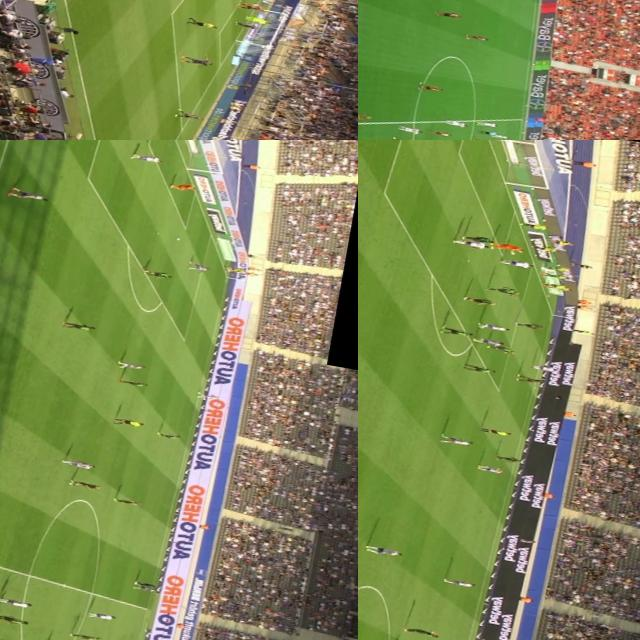ball: (174, 234, 184, 240)
player: (362, 542, 402, 558), (401, 622, 440, 638), (440, 575, 479, 591), (9, 188, 52, 202), (62, 320, 101, 334), (492, 239, 526, 254), (0, 595, 34, 609), (499, 257, 534, 270), (486, 339, 516, 354), (84, 610, 120, 622), (180, 54, 213, 67), (0, 611, 30, 625), (114, 358, 149, 370), (129, 152, 164, 164), (440, 326, 475, 338), (453, 236, 488, 248), (462, 362, 496, 374), (492, 282, 521, 296), (474, 334, 503, 348), (464, 293, 494, 306), (512, 317, 542, 330), (184, 259, 213, 272), (441, 433, 474, 444), (476, 462, 506, 474), (131, 583, 163, 594), (177, 108, 206, 120), (146, 268, 174, 280), (494, 451, 522, 463), (114, 497, 144, 508), (168, 181, 198, 192), (464, 232, 496, 242), (244, 12, 269, 24), (434, 8, 464, 18), (70, 478, 100, 488), (64, 458, 94, 468), (72, 631, 105, 640), (418, 80, 444, 91), (516, 372, 544, 382), (160, 428, 182, 440), (119, 378, 148, 387), (239, 1, 265, 11), (464, 32, 490, 42), (233, 20, 261, 29), (398, 123, 423, 133), (443, 118, 468, 128), (194, 390, 219, 400), (482, 322, 508, 331), (476, 118, 499, 128), (428, 128, 453, 136), (531, 362, 555, 370), (488, 132, 511, 140), (136, 579, 156, 587), (358, 108, 370, 121), (392, 135, 423, 140), (244, 4, 262, 12), (472, 136, 492, 140)
